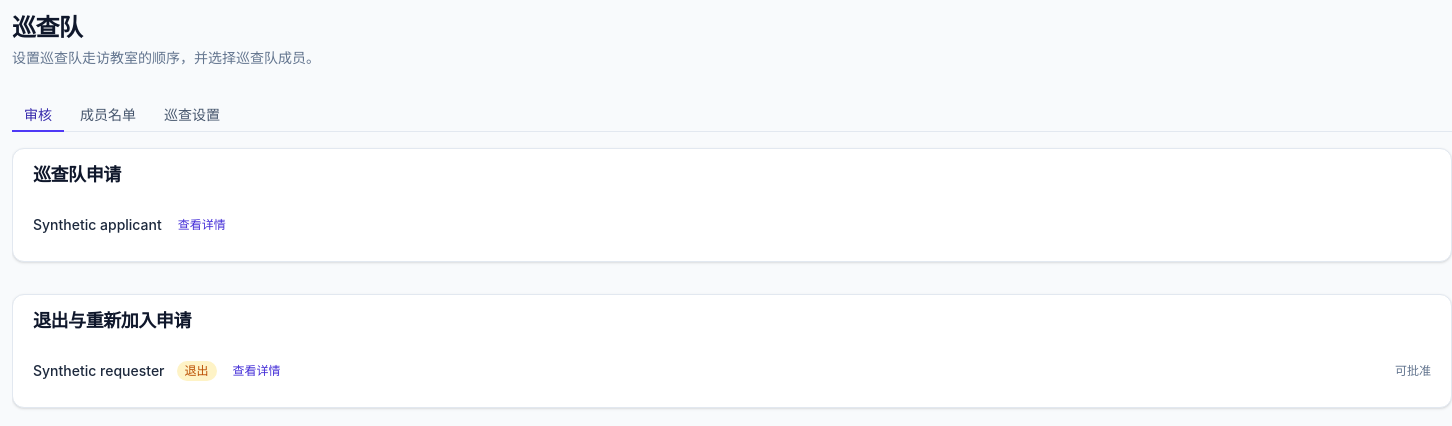
Test: shows known zero crew totals in the zh roster
The image size is (1452, 426).
Click the tab "成员名单": {"x": 108, "y": 116} [68, 100, 148, 132]
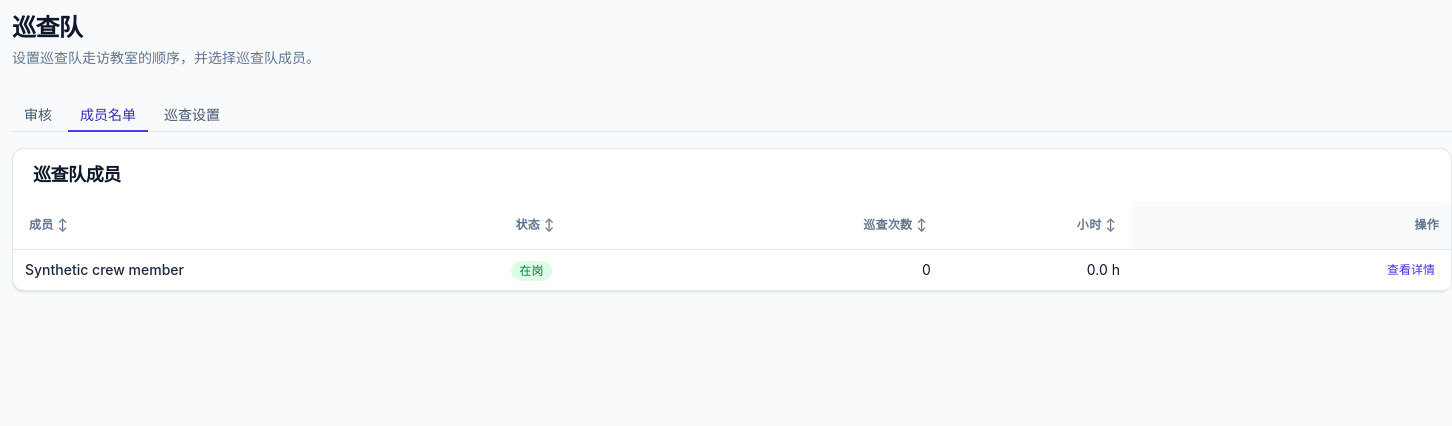
Expected: the cell "0" is shown, [688, 250, 943, 290]
Expected: the cell "0.0 h" is shown, [943, 250, 1132, 290]
